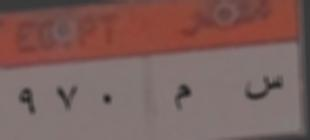0: (92, 88, 120, 114)
7: (52, 80, 84, 118)
9: (18, 80, 42, 122)
meem: (169, 72, 199, 120)
seen: (239, 67, 285, 107)
